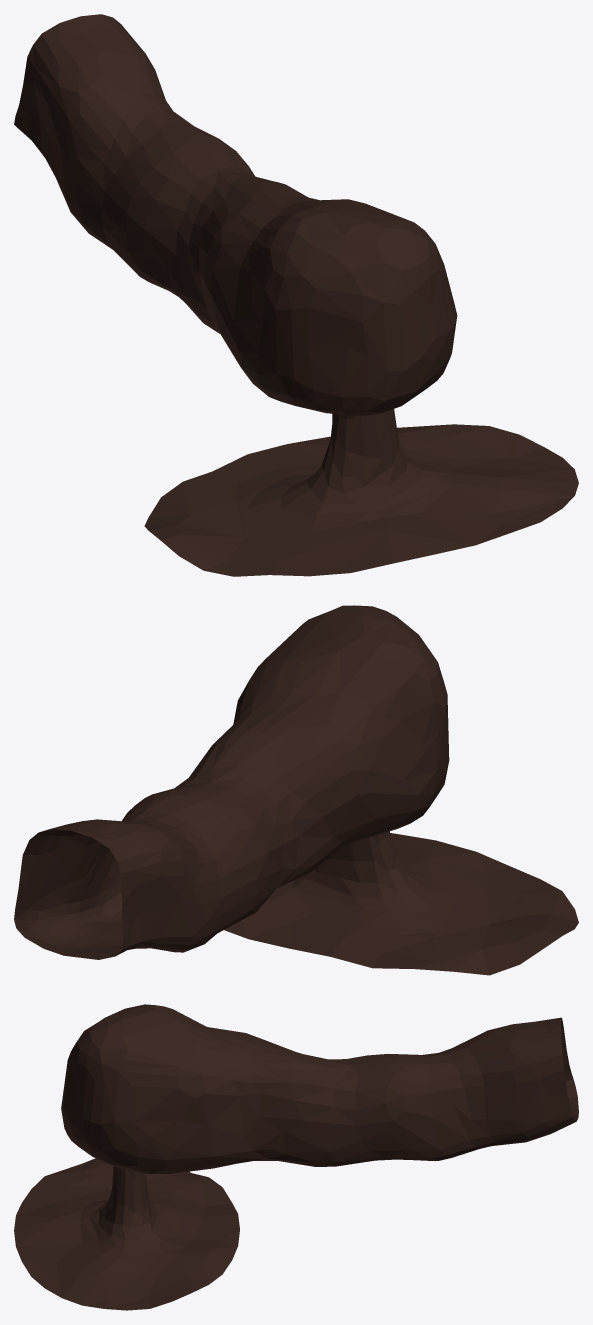
File: CaveSystemChute.fbx
3 renders of one model, top to bottom at view 1: azimuth 30°, elevation 25°; view 2: azimuth 150°, elevation 25°; view 3: azimuth 270°, elevation 25°, orthographic. The views are drawn at different scales.
Visible parts, largest first — view 1: Cube; view 2: Cube; view 3: Cube.
Part boxes in pixels (left/top/right/bottom): Cube: left=14, top=14, right=578, bottom=576; Cube: left=14, top=605, right=578, bottom=975; Cube: left=14, top=1004, right=578, bottom=1310.
Size of the model in its own units: 3176 by 2166 by 5086.
